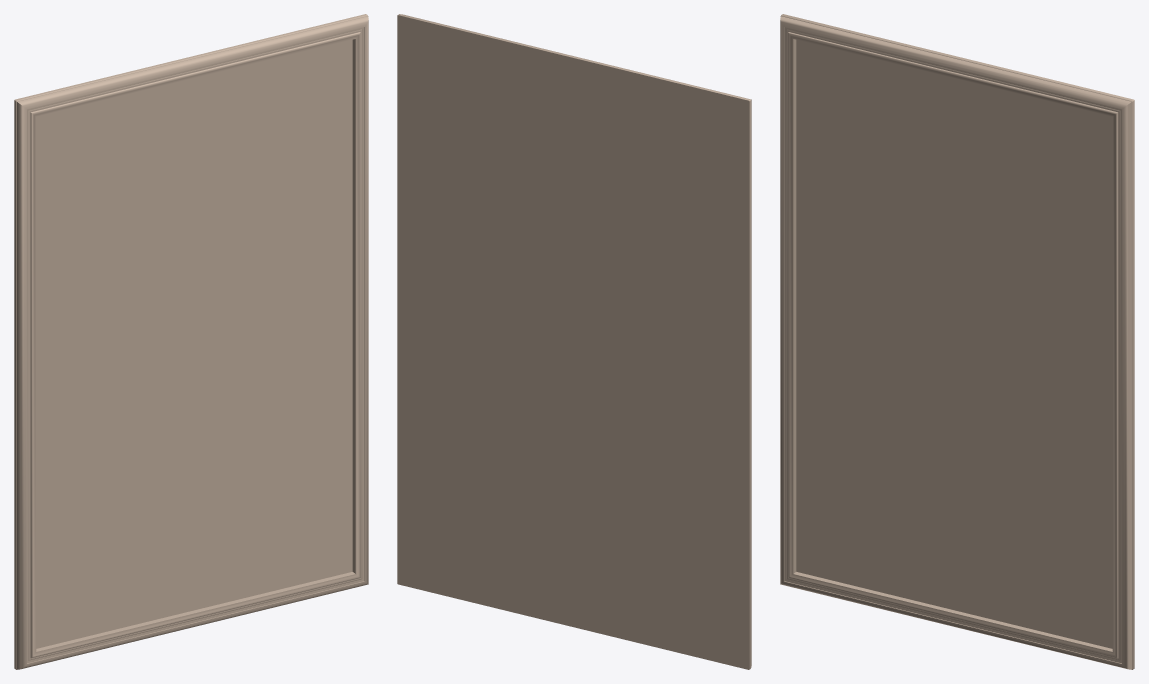
Rendered from cuadro.gltf.
The picture shows the model from 3 angles, left to right: view 1: azimuth 30°, elevation 25°; view 2: azimuth 150°, elevation 25°; view 3: azimuth 330°, elevation 25°; orthographic projection.
Visible parts, largest first — view 1: Cube; view 2: Cube; view 3: Cube.
Boxes of the visible parts, box(x1,y1,x2,y2) form: Cube: box(14, 14, 368, 669); Cube: box(397, 14, 751, 669); Cube: box(780, 14, 1134, 669).
Bounding box in the file's own units: 129 × 200 × 3.73.
